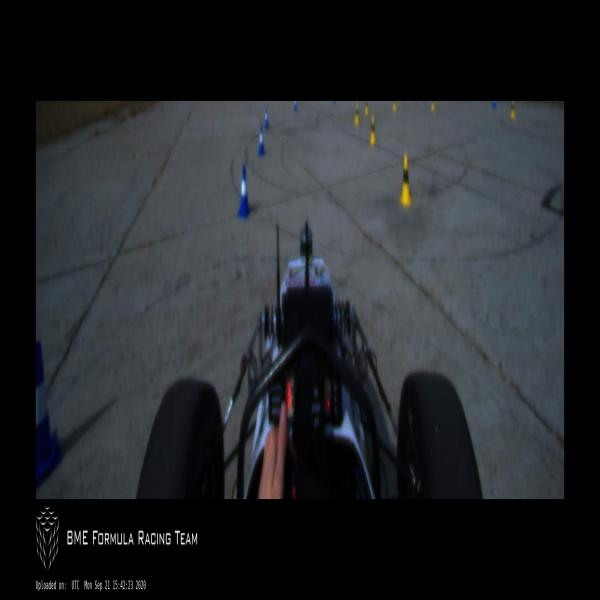blue_cone: (36, 338, 61, 490), (238, 164, 250, 218), (258, 125, 265, 155), (264, 107, 268, 128), (294, 101, 297, 111)
yellow_cone: (398, 154, 413, 208), (370, 115, 377, 146), (510, 101, 516, 120), (354, 104, 359, 125), (364, 102, 368, 117), (431, 101, 435, 112), (392, 101, 396, 110)
